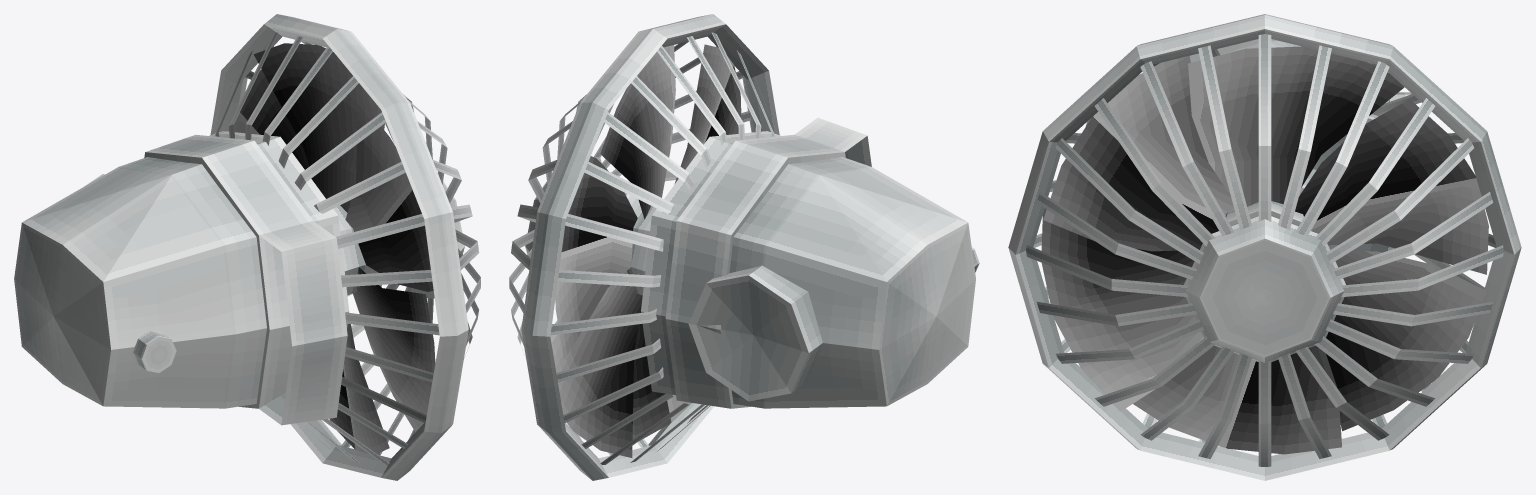
File: options732.obj
The picture shows the model from 3 angles, left to right: view 1: azimuth 30°, elevation 25°; view 2: azimuth 150°, elevation 25°; view 3: azimuth 270°, elevation 25°; orthographic projection. The views are drawn at different scales.
Visible parts, largest first — view 1: options732; view 2: options732; view 3: options732.
Part boxes in pixels (bbox=[...]): options732: bbox=[14, 14, 480, 480]; options732: bbox=[509, 14, 979, 480]; options732: bbox=[1008, 14, 1521, 480].
Bounding box in the file's own units: 0.8089 × 0.888 × 0.888.
Materials: 2 (2 with a texture image).
